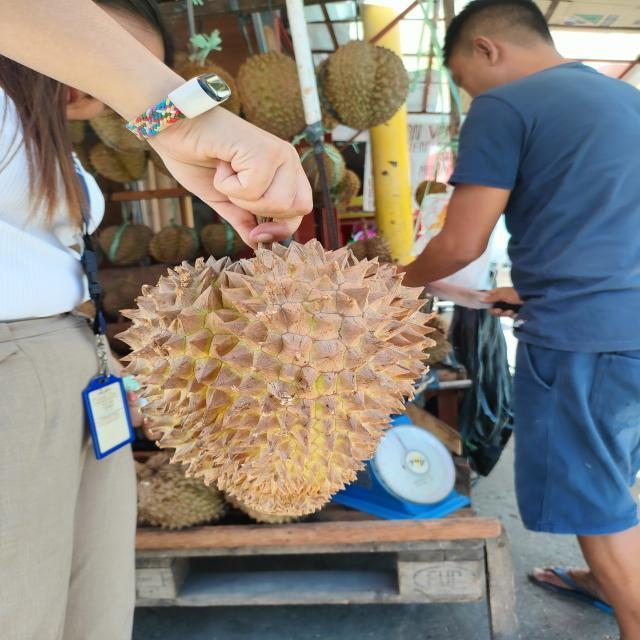mature: (105, 237, 441, 517)
